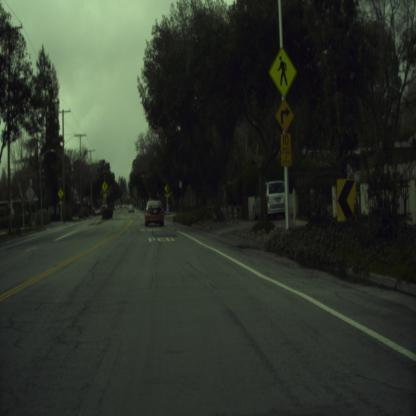Red: (132, 198, 134, 204), (129, 194, 131, 199)
